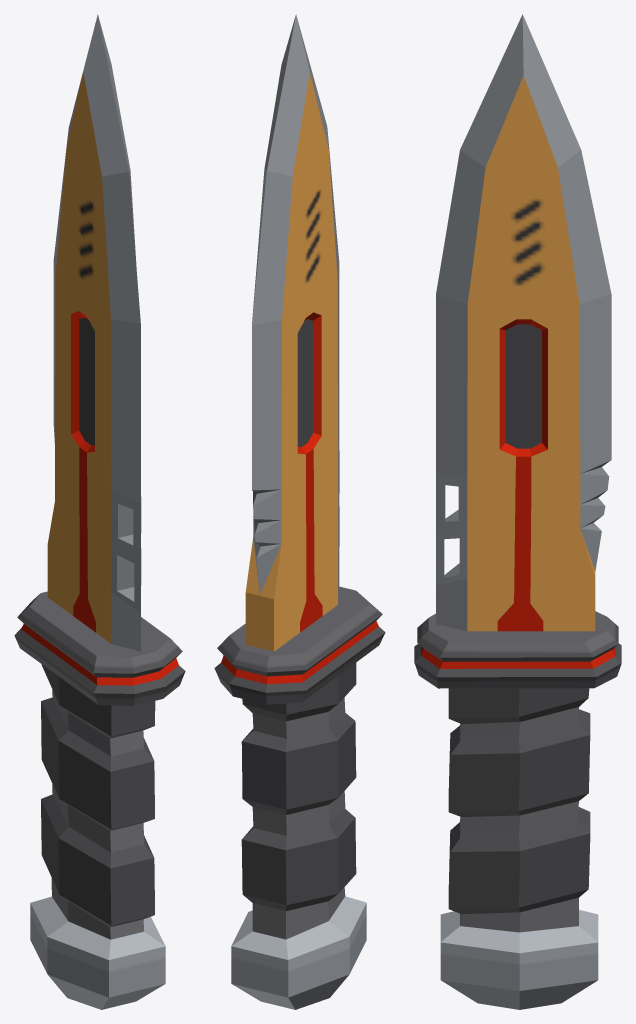
Rendered from SM_Wep_Dagger_02.fbx.
3 renders of one model, left to right at view 1: azimuth 30°, elevation 25°; view 2: azimuth 150°, elevation 25°; view 3: azimuth 270°, elevation 25°, orthographic.
Visible parts, largest first — view 1: SM_Wep_Dagger_02; view 2: SM_Wep_Dagger_02; view 3: SM_Wep_Dagger_02.
Part boxes in pixels (x1,y1,x2,y2): SM_Wep_Dagger_02: (14, 14, 185, 1009); SM_Wep_Dagger_02: (214, 14, 385, 1009); SM_Wep_Dagger_02: (414, 14, 621, 1009).
Bounding box in the file's own units: 5.59 × 51.46 × 9.87.
